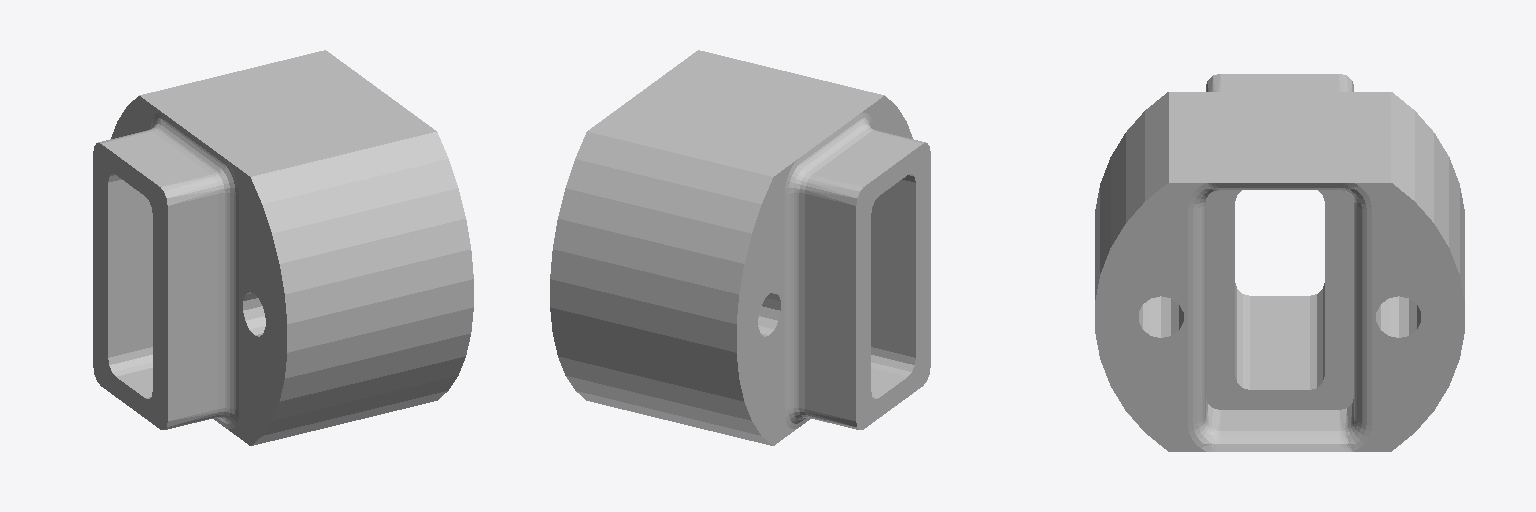
Rendered from hip_adapter.obj.
The picture shows the model from 3 angles: view 1: azimuth 30°, elevation 25°; view 2: azimuth 150°, elevation 25°; view 3: azimuth 270°, elevation 25°; orthographic projection.
Size of the model in its own units: 0.0195 by 0.02 by 0.0249.